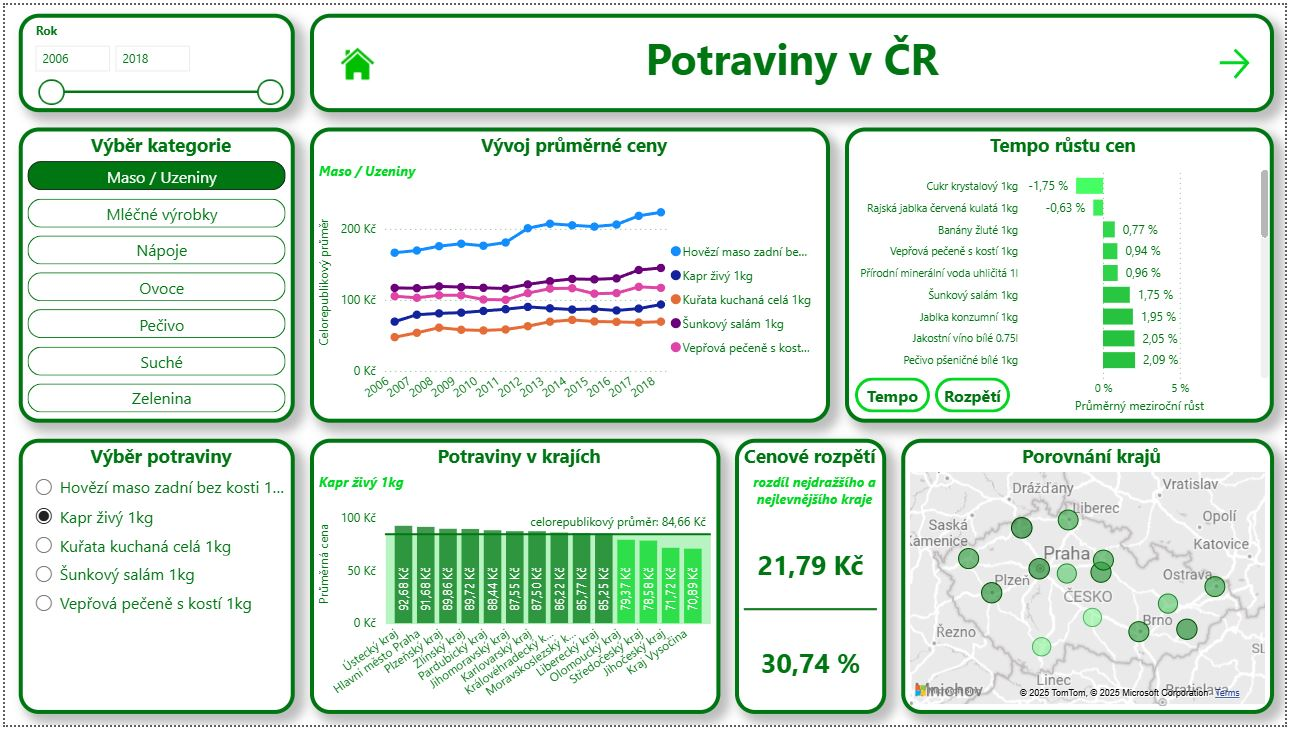

The dashboard page shown, as its layout file describes it:
{"tool":"powerbi","page":{"name":"Potraviny","canvas":[1280,720],"ordinal":1},"visuals":[{"type":"slicer","title":"Výběr potraviny","fields":{"Values":["Potraviny_Kategorie.nazev_kategorie"]},"box":[13.8,433.8,276.2,275],"z":0},{"type":"columnChart","title":"Potraviny v krajích","fields":{"Category":["Potraviny_Kraje.nazev_kraje"],"Y":["Avg(Potraviny.prum_cena)"]},"box":[305,433.8,410,275],"z":1000},{"type":"map","title":"Porovnání krajů","fields":{"Category":["Potraviny_Kraje.nazev_kraje"],"Size":["Avg(Potraviny.prum_cena)"]},"box":[896.2,433.8,372.5,275],"z":2000},{"type":"cardVisual","title":"Cenové rozpětí","fields":{"Data":["Potraviny.Rozptyl_prum_cen_kraju","Potraviny.Rozptyl_prum_cen_kraju_proc"]},"box":[730,433.8,151.2,275],"z":3000},{"type":"advancedSlicerVisual","title":"Výběr kategorie","fields":{"Values":["Potraviny_Kategorie.Druh_kategorie"]},"box":[13.8,122.5,276.2,295],"z":4000},{"type":"slicer","title":"Rok","fields":{"Values":["Kalendar.Rok"]},"box":[13.8,8.8,276.2,98.8],"z":5000},{"type":"lineChart","title":"Vývoj průměrné ceny","fields":{"Y":["Avg(Potraviny.prum_cena)"],"Series":["Potraviny_Kategorie.nazev_kategorie"],"Category":["Kalendar.Date.Variace.Hierarchie dat.Rok"]},"box":[305,122.5,520,295],"z":6000},{"type":"textbox","box":[305,8.8,963.8,98.8],"z":7000},{"type":"barChart","title":"Tempo růstu cen","fields":{"Y":["Avg(Potraviny.prum_cena_mezirocni_rozdil_procent)"],"Category":["Potraviny_Kategorie.nazev_kategorie"]},"box":[840,122.5,428.8,295],"z":9000},{"type":"actionButton","box":[930,372.5,75,35],"z":10000},{"type":"actionButton","box":[850,372.5,75,35],"z":11000},{"type":"actionButton","box":[1208.8,38.8,41.2,40],"z":12000},{"type":"actionButton","box":[325,31.2,57.5,55],"z":13000}]}

Visuals, with their boxes in screenshot pixels (x1, y1, x2, y2), scaled from the page's 1280x720 canvas onto the 1291x731 screenshot:
"Výběr potraviny" slicer: l=14, t=440, r=292, b=720
"Potraviny v krajích" columnChart: l=308, t=440, r=721, b=720
"Porovnání krajů" map: l=904, t=440, r=1280, b=720
"Cenové rozpětí" cardVisual: l=736, t=440, r=889, b=720
"Výběr kategorie" advancedSlicerVisual: l=14, t=124, r=292, b=424
"Rok" slicer: l=14, t=9, r=292, b=109
"Vývoj průměrné ceny" lineChart: l=308, t=124, r=832, b=424
textbox: l=308, t=9, r=1280, b=109
"Tempo růstu cen" barChart: l=847, t=124, r=1280, b=424
actionButton: l=938, t=378, r=1014, b=414
actionButton: l=857, t=378, r=933, b=414
actionButton: l=1219, t=39, r=1261, b=80
actionButton: l=328, t=32, r=386, b=88
